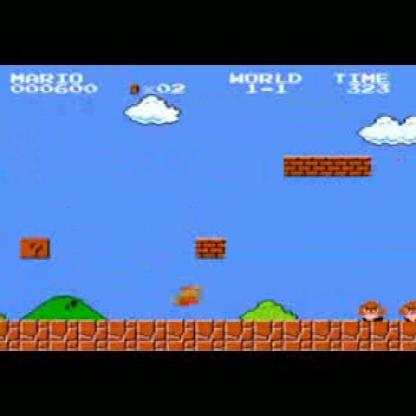Goomba: (357, 297, 385, 322), (396, 298, 415, 325)
